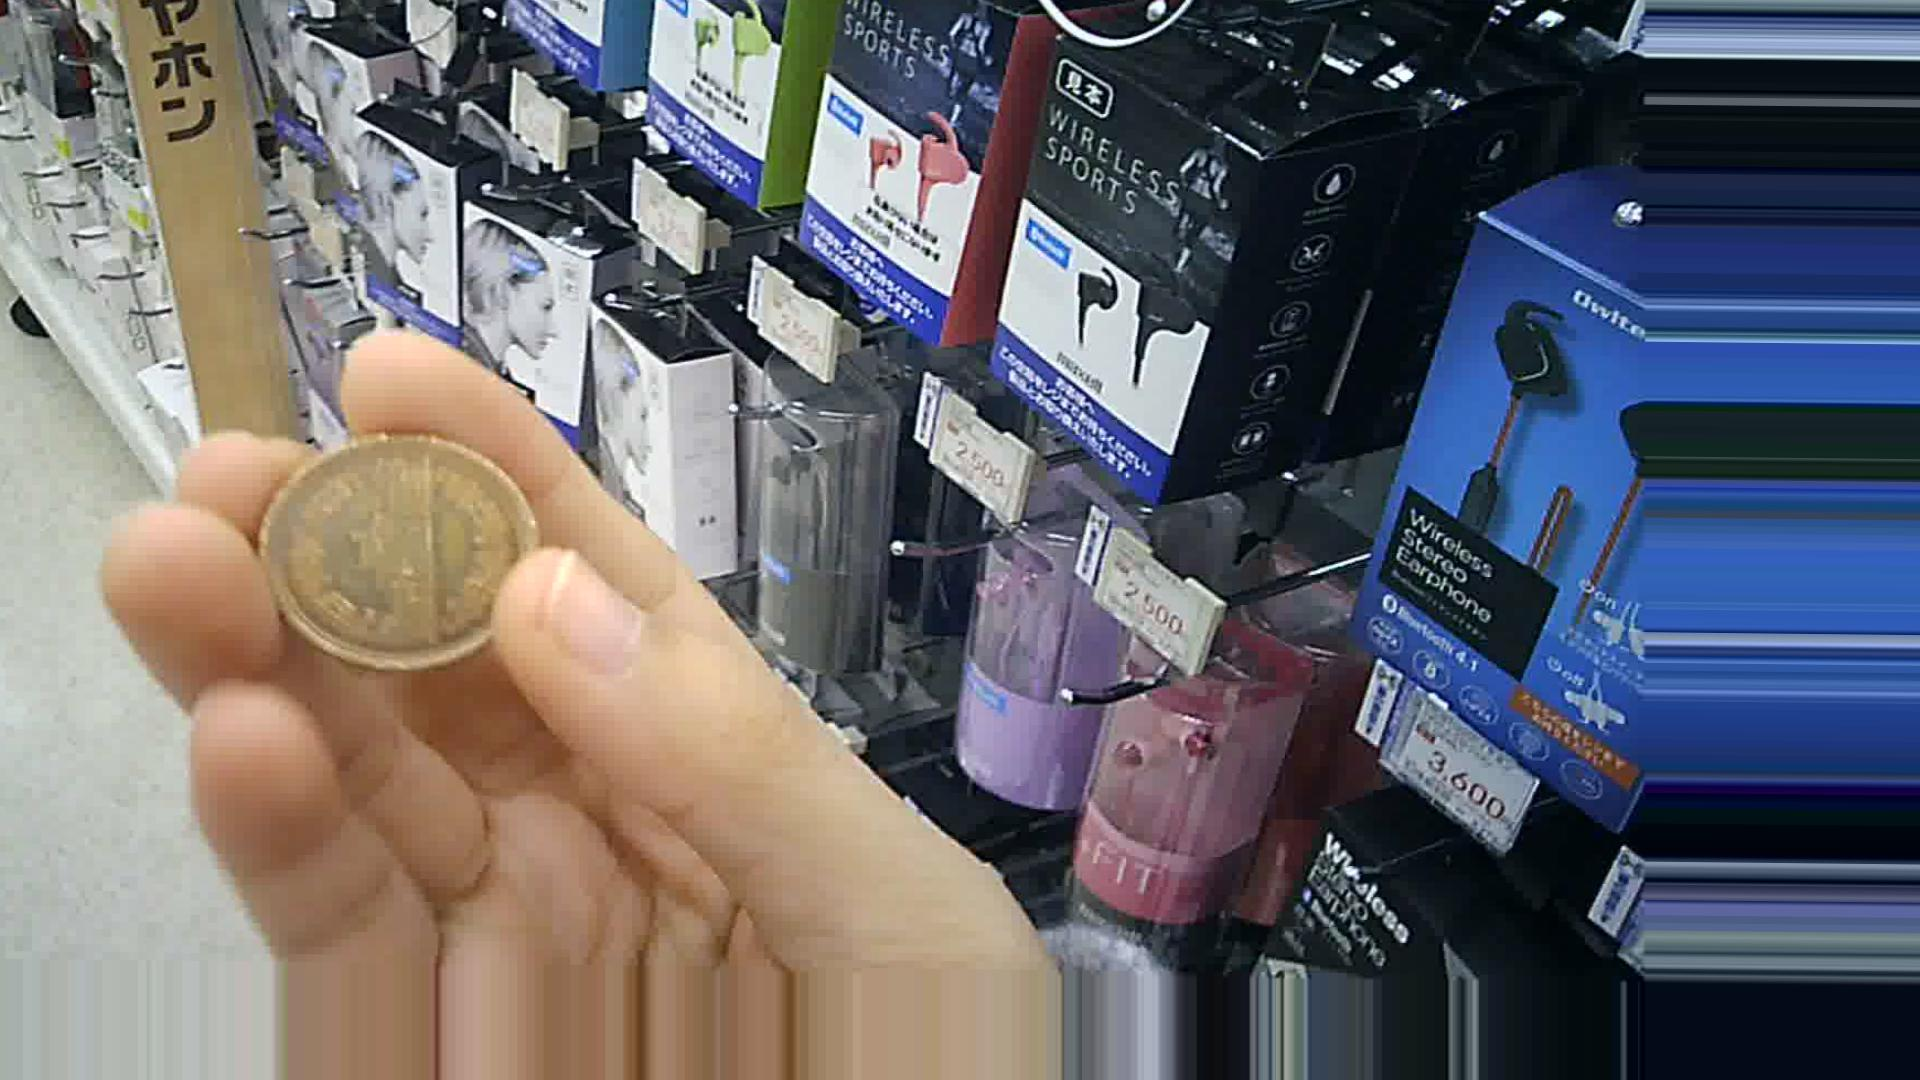10 Yen: (251, 429, 541, 666)
